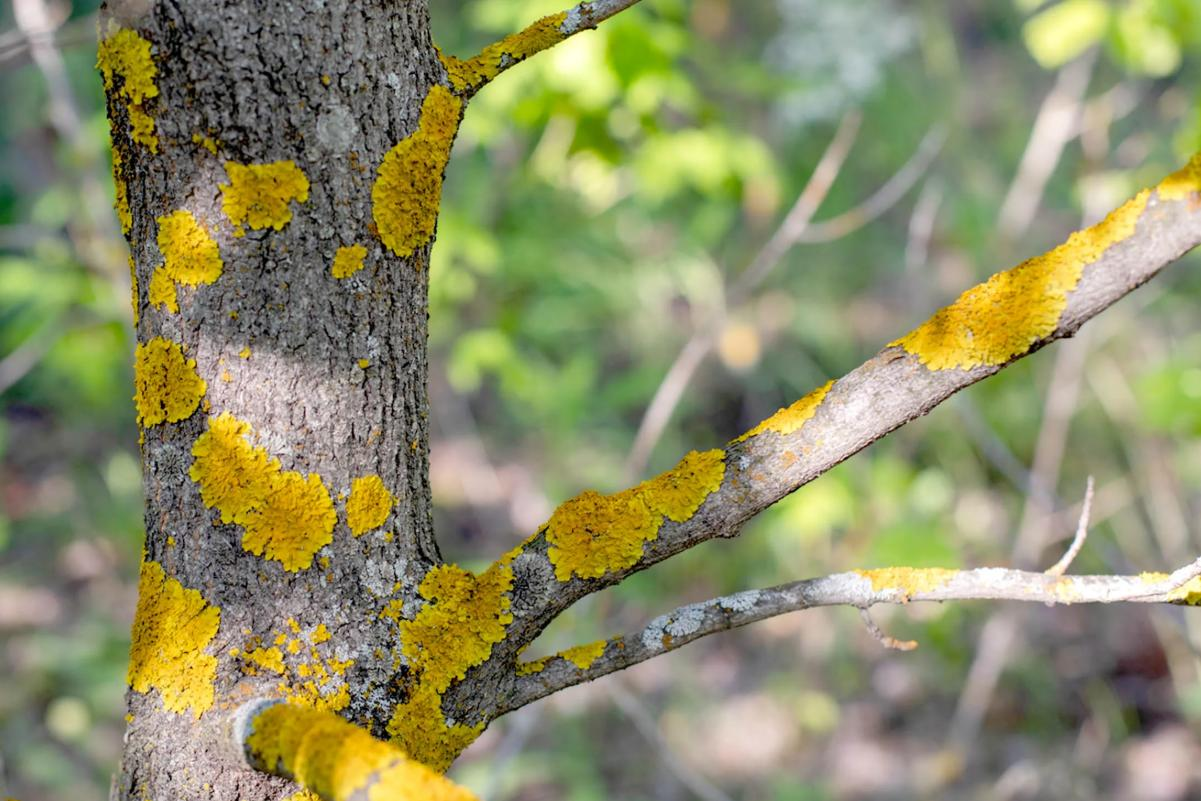lichen: (890, 190, 1148, 370), (386, 551, 517, 771), (231, 700, 477, 800), (189, 413, 335, 570), (373, 85, 461, 256), (400, 565, 512, 694), (127, 561, 218, 717), (547, 490, 661, 580), (440, 11, 566, 88), (642, 591, 761, 651), (135, 337, 205, 425), (220, 161, 308, 229), (734, 382, 833, 441), (644, 449, 724, 521), (157, 210, 222, 286), (97, 23, 156, 105), (856, 568, 959, 597), (285, 663, 348, 710), (347, 475, 393, 536), (558, 641, 605, 669), (149, 267, 177, 311), (332, 244, 366, 278), (244, 648, 283, 673), (135, 123, 156, 145)
